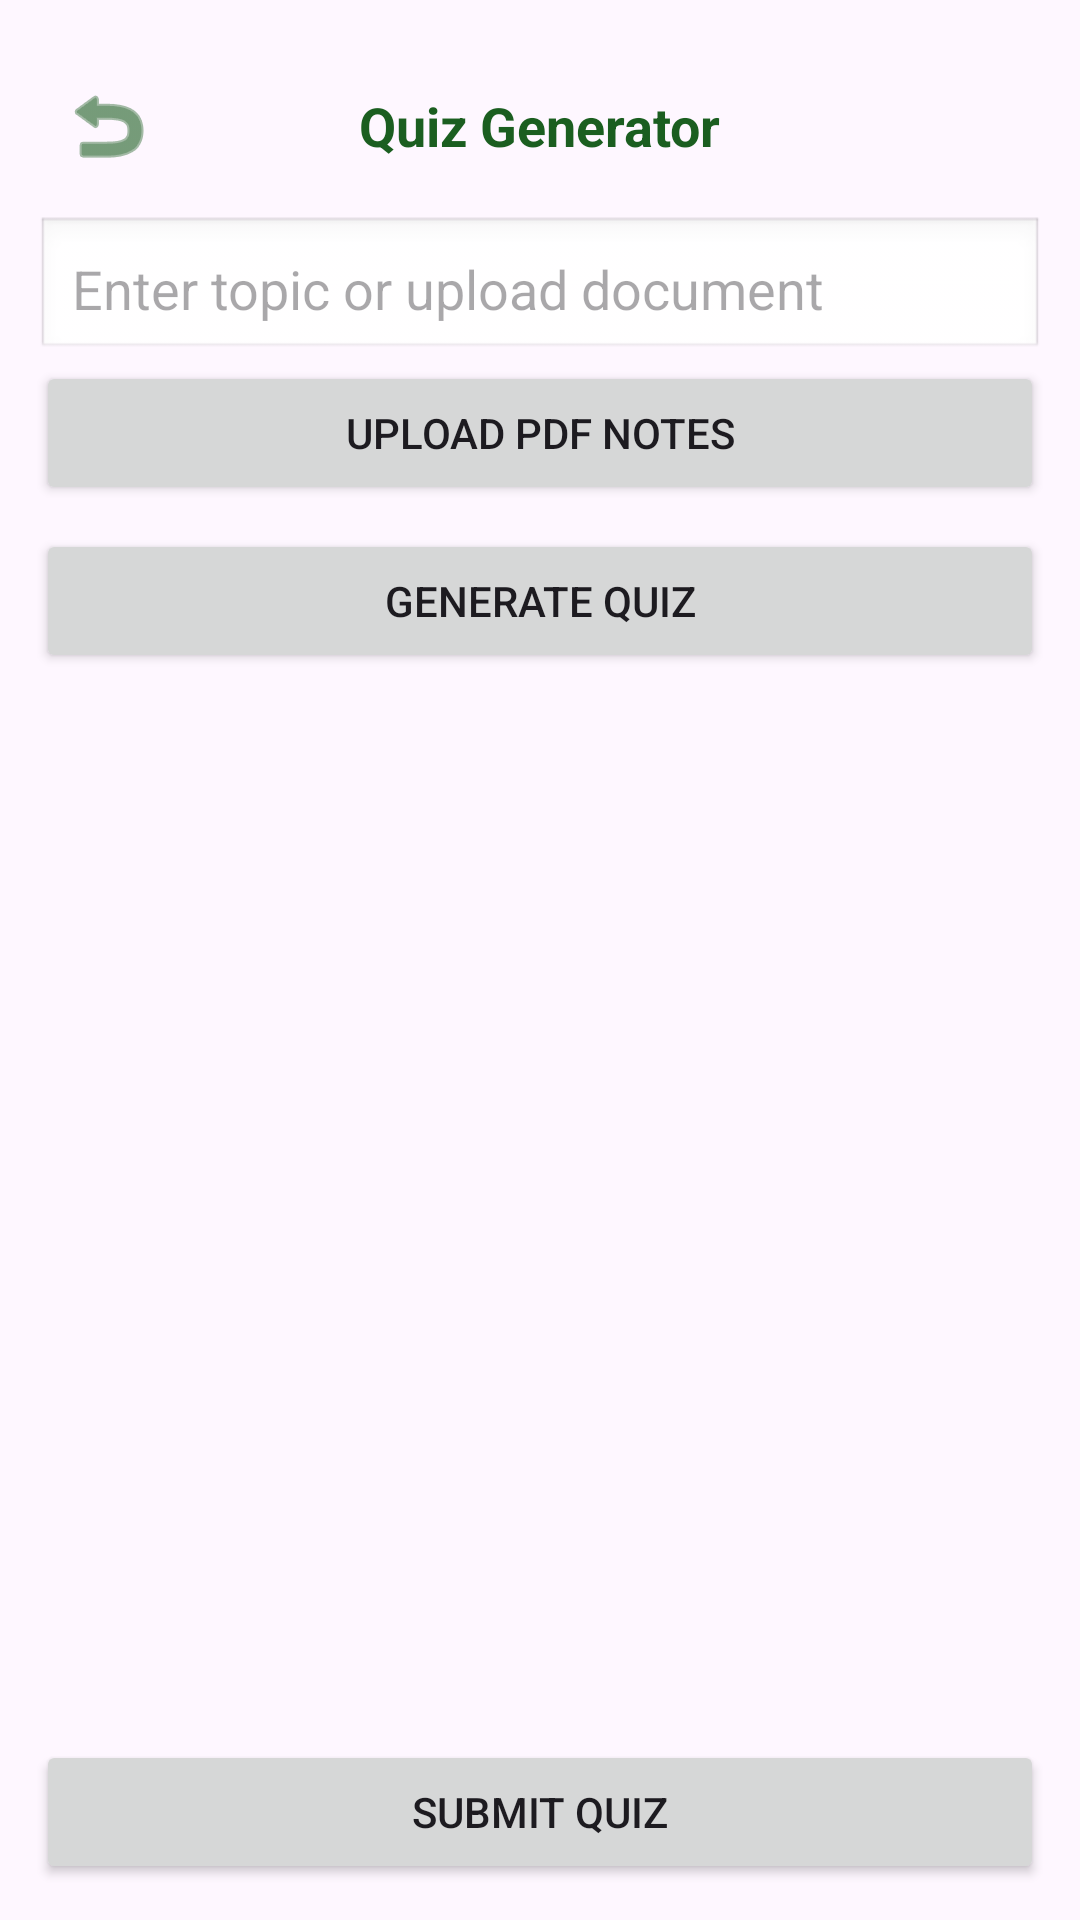

Screen size 1080 x 1920. Icon name, then its center in pixels as [x,y]:
Go Back: [109,126]
